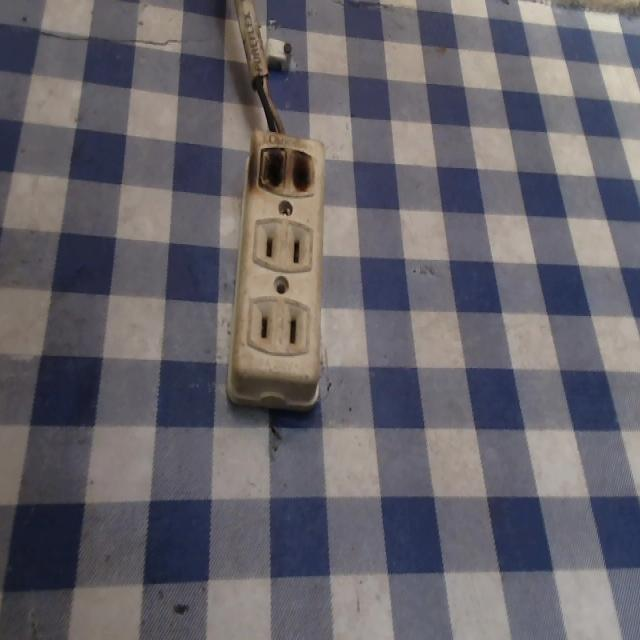-: (255, 138, 323, 202)
